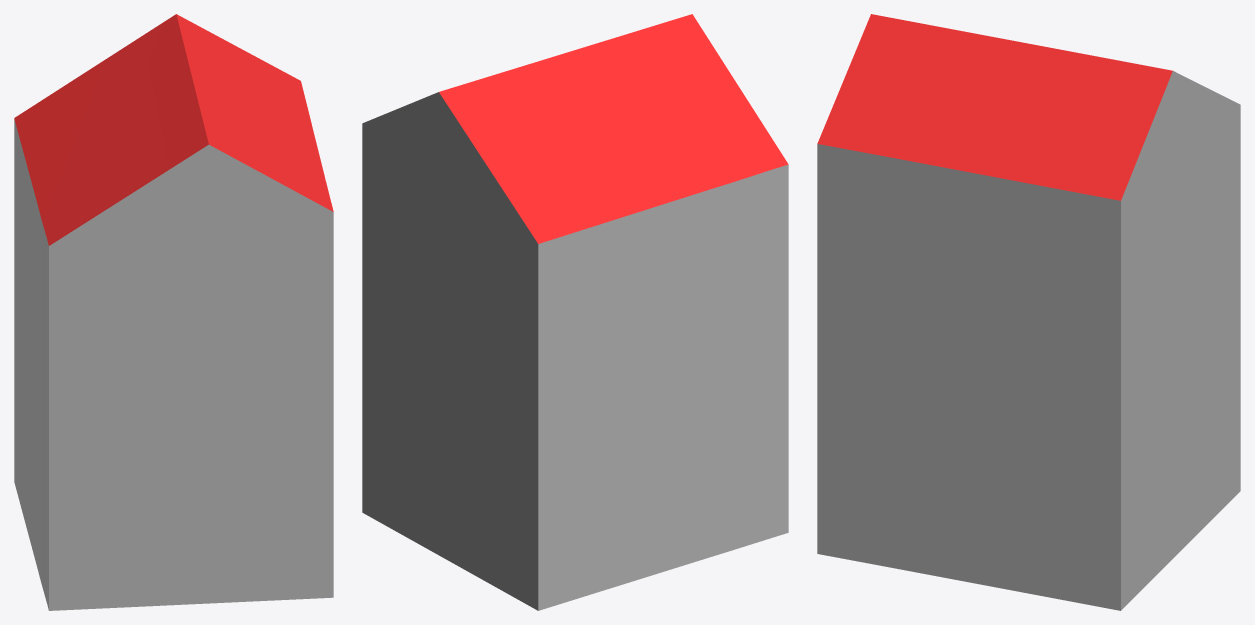
The model's file is DEBY_LOD2_4907201.dae.
The picture shows the model from 3 angles, left to right: view 1: azimuth 30°, elevation 25°; view 2: azimuth 150°, elevation 25°; view 3: azimuth 270°, elevation 25°; orthographic projection. The views are drawn at different scales.
Size of the model in its own units: 15.4 by 15.74 by 20.03.
